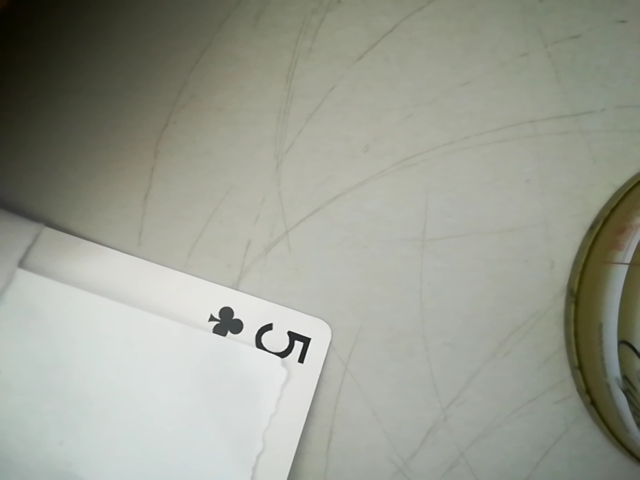mh 5: (200, 302, 323, 372)
